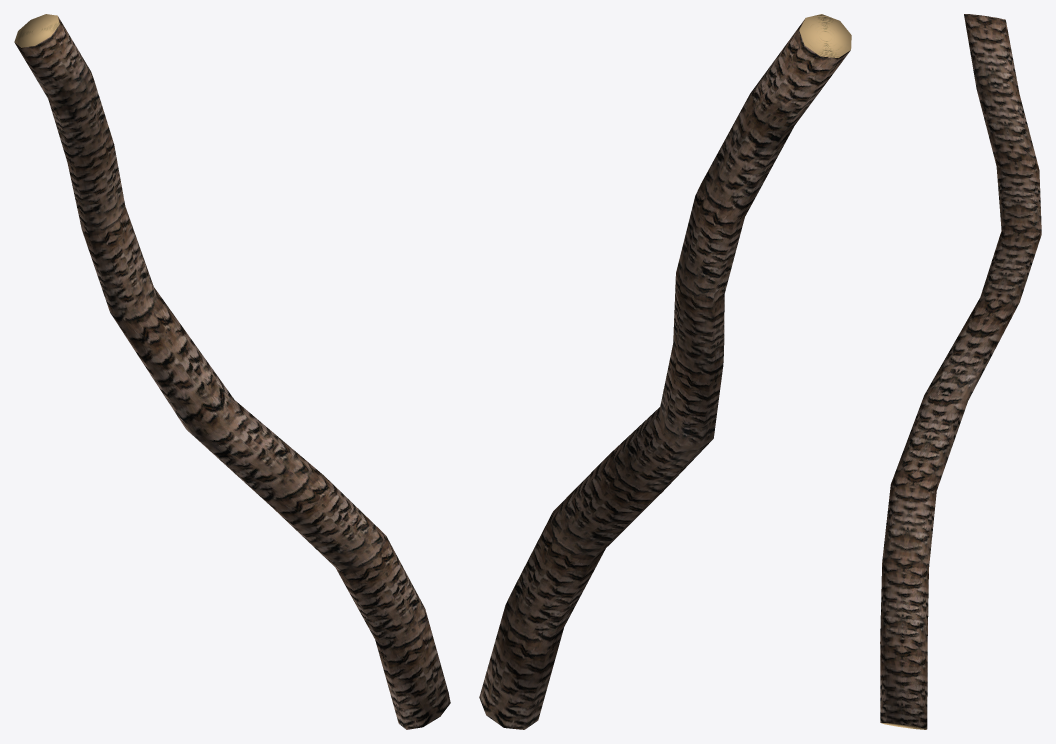
Rendered from PalmTwist3Shape.dae.
3 views of the same model, side by side, from view 1: azimuth 30°, elevation 25°; view 2: azimuth 150°, elevation 25°; view 3: azimuth 270°, elevation 25° (orthographic). The views are drawn at different scales.
Visible parts, largest first — view 1: PalmTwist3; view 2: PalmTwist3; view 3: PalmTwist3.
Boxes of the visible parts, x1,y1,x2,y2 form: PalmTwist3: (14,14,450,729); PalmTwist3: (479,14,851,729); PalmTwist3: (880,14,1041,729).
Bounding box in the file's own units: 46.11 × 87.14 × 21.37.
